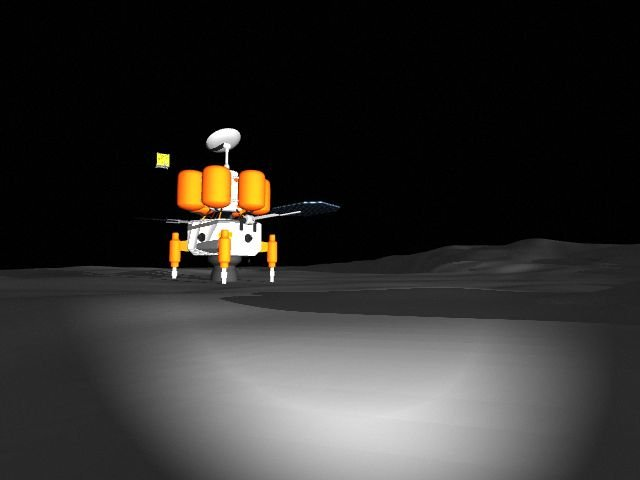cubesat: (150, 149, 171, 172)
